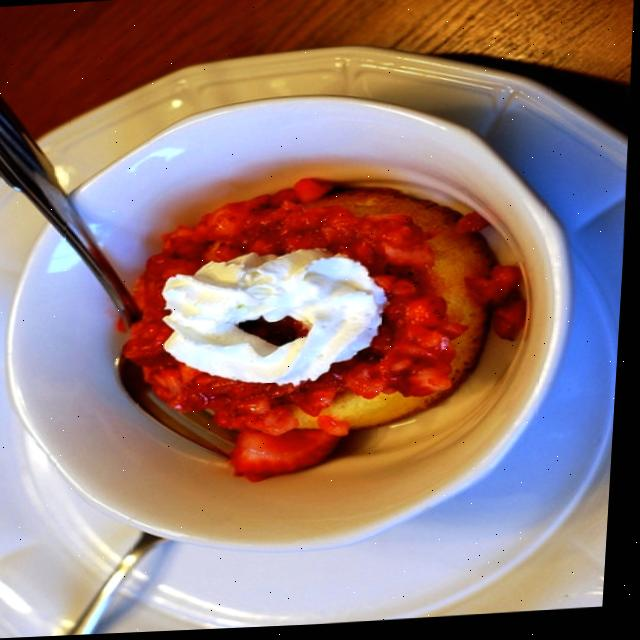蛋糕甜品: (80, 149, 543, 498)
